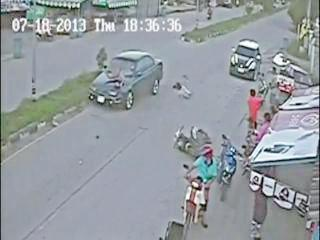Car: (89, 50, 163, 110), (231, 40, 262, 80)
Major Accident: (85, 44, 210, 158)
Motor: (183, 168, 206, 228), (169, 128, 210, 158), (216, 140, 233, 200)
